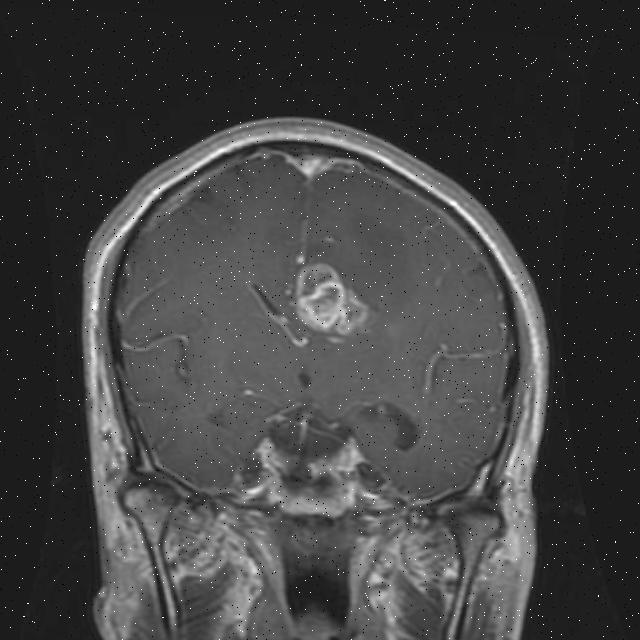Glioma: (292, 258, 369, 338)
Pituitary: (275, 482, 347, 522)
